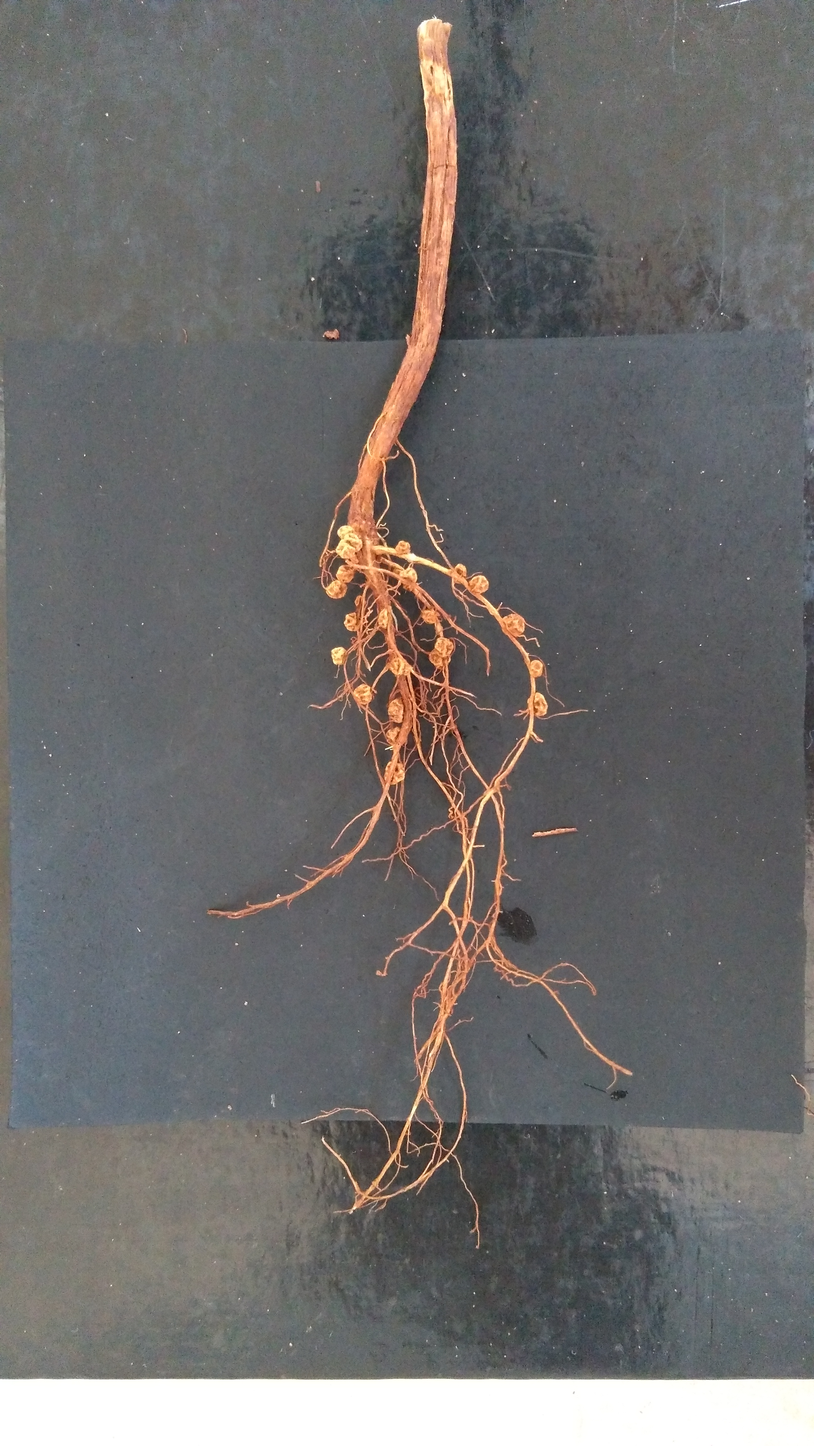nodule: (336, 534, 363, 558), (502, 613, 524, 637), (527, 692, 548, 716), (384, 762, 405, 785), (429, 649, 451, 670), (400, 567, 417, 592), (468, 575, 489, 595), (388, 697, 404, 723), (389, 657, 412, 675), (434, 637, 454, 657), (353, 684, 372, 705), (326, 580, 348, 598), (336, 564, 354, 582), (385, 726, 402, 745), (344, 612, 360, 630), (337, 525, 356, 540), (452, 563, 466, 583), (331, 647, 347, 664), (529, 659, 543, 677), (378, 608, 390, 629), (395, 540, 410, 556), (422, 610, 438, 624), (345, 553, 358, 566), (355, 595, 366, 607), (393, 568, 402, 577)
